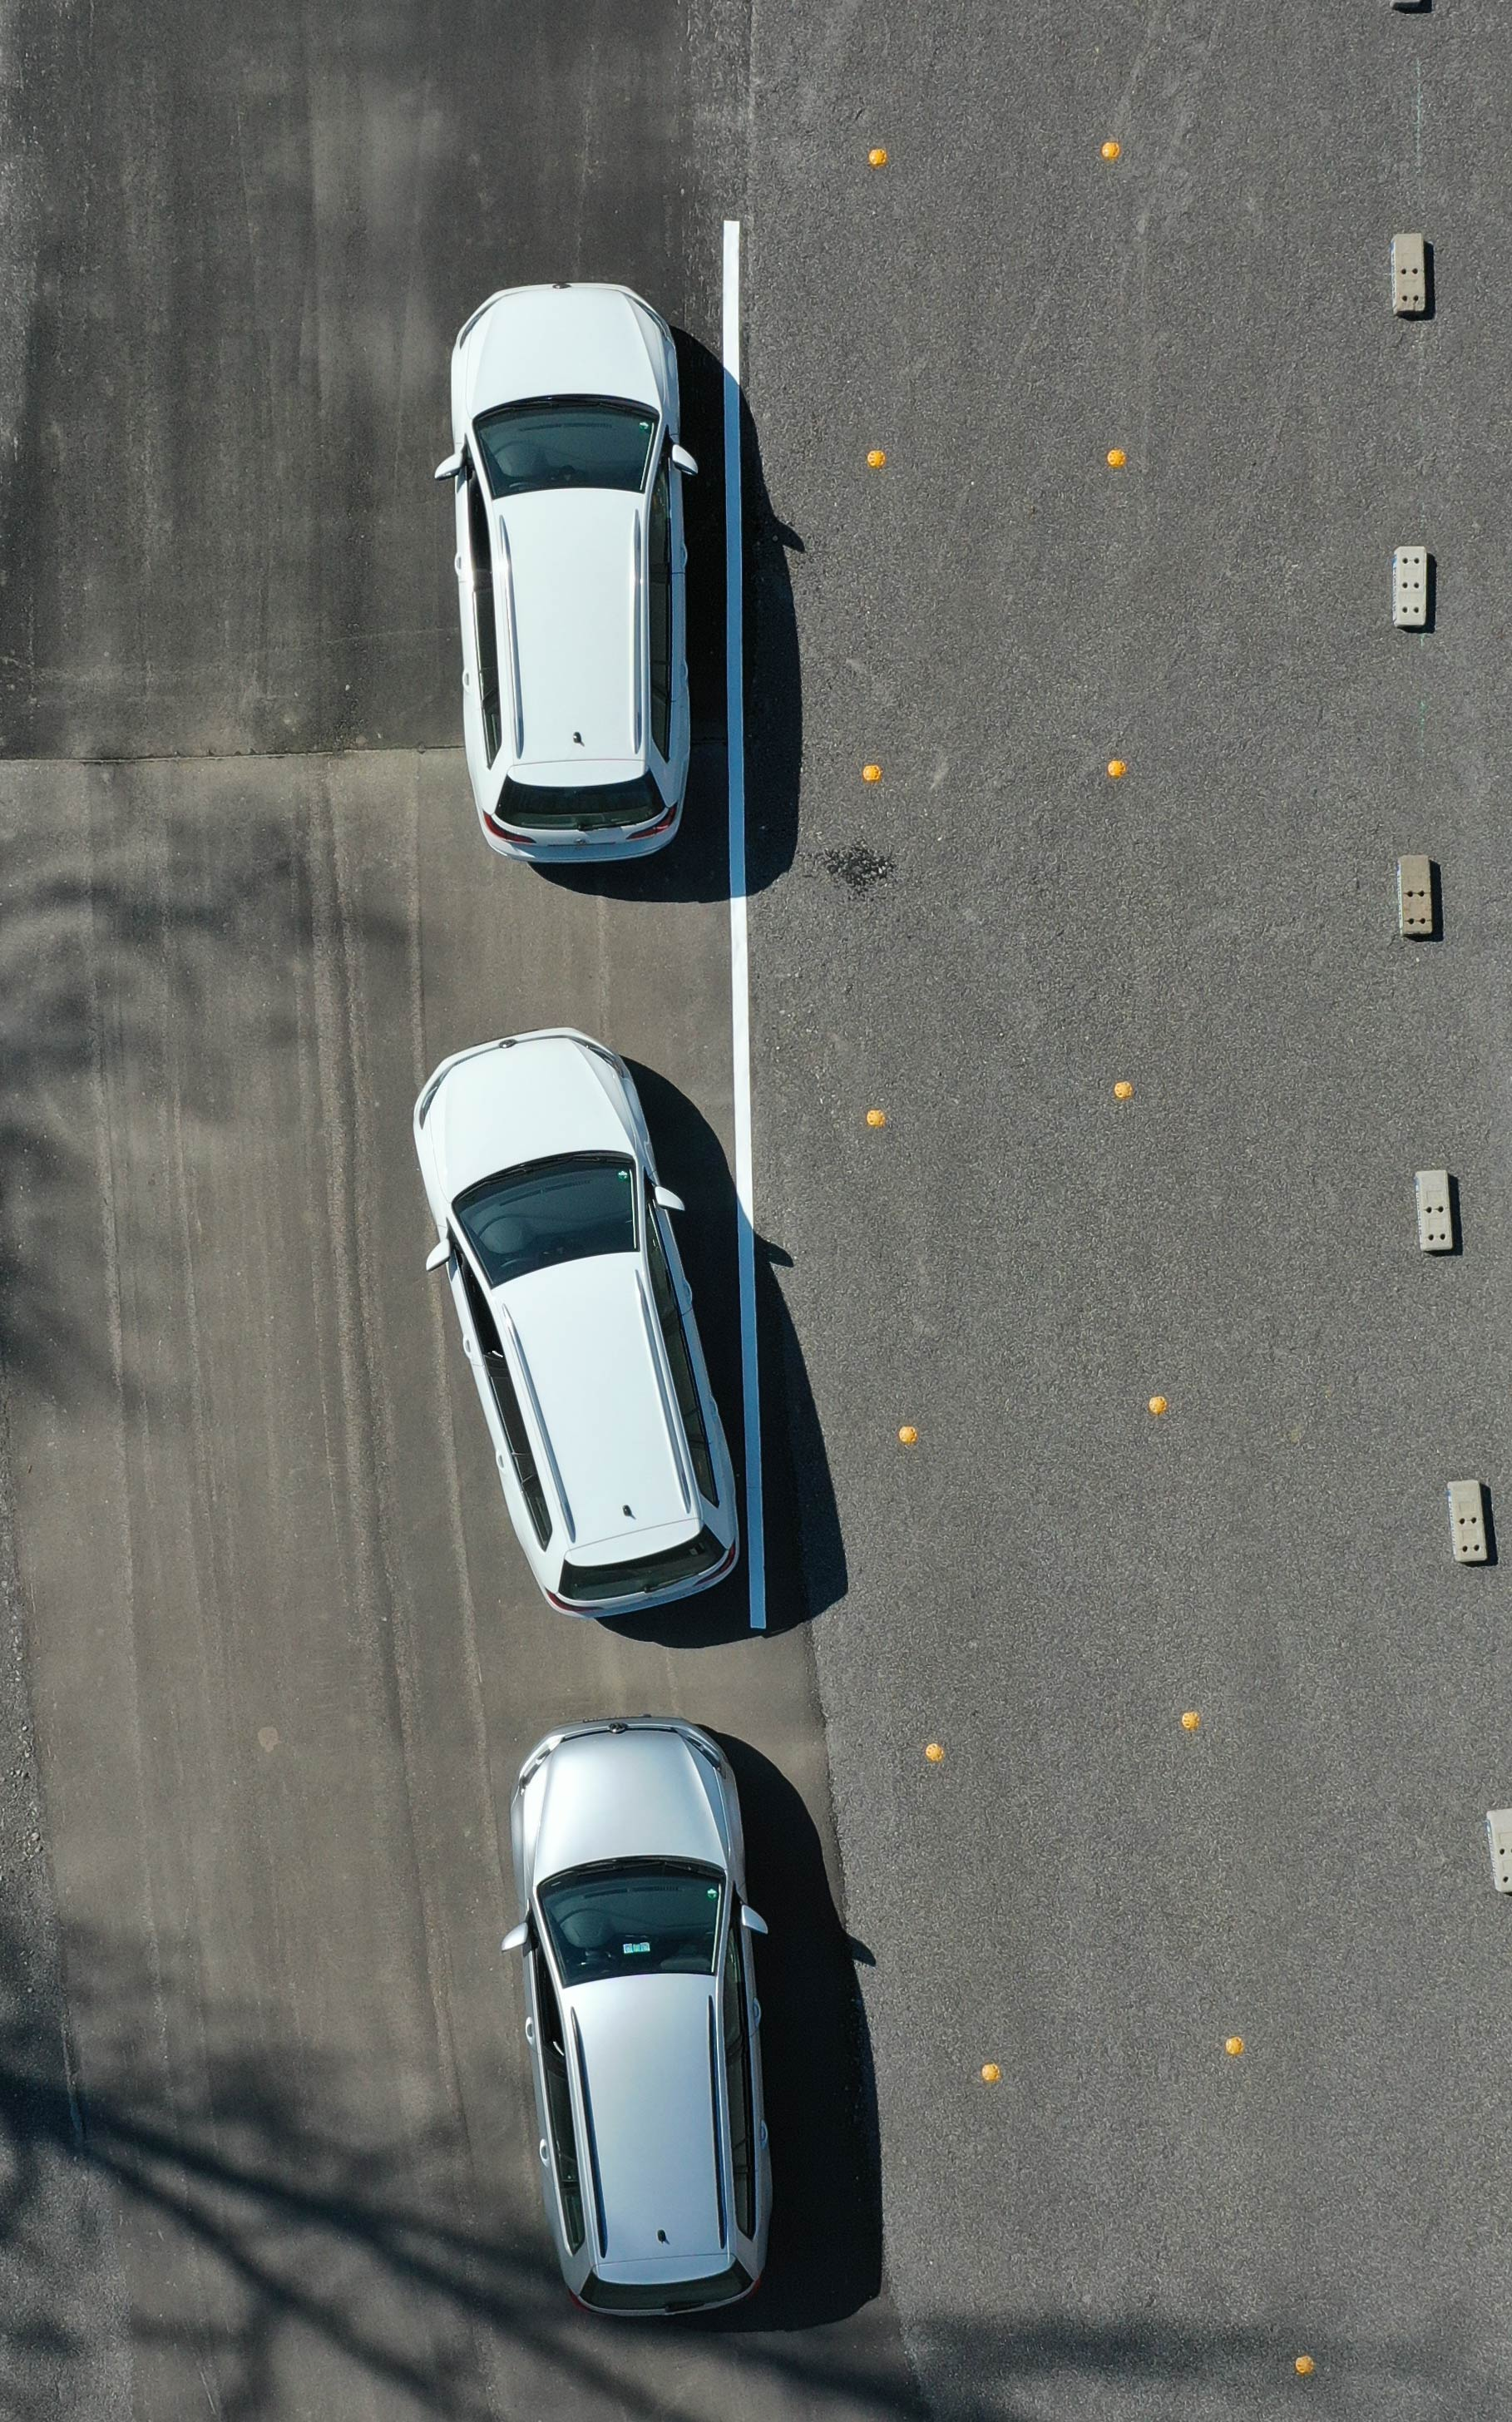Car: (404, 1019, 751, 1626), (496, 1712, 784, 2330), (430, 277, 707, 872)
LaneMark: (716, 216, 770, 1633)
